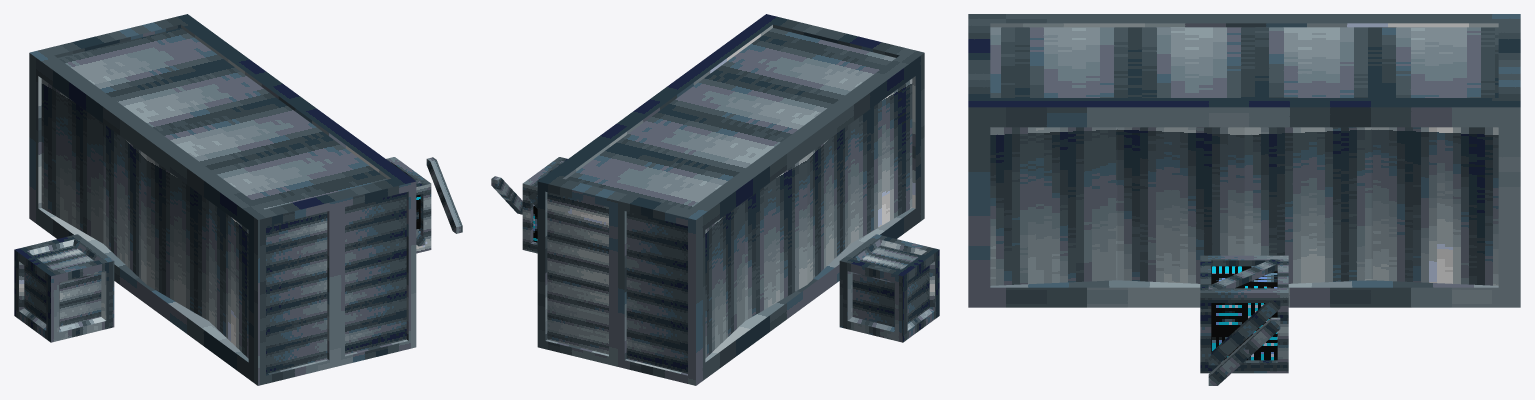
File: Crates.fbx
3 views of the same model, side by side, from view 1: azimuth 30°, elevation 25°; view 2: azimuth 150°, elevation 25°; view 3: azimuth 270°, elevation 25° (orthographic). The views are drawn at different scales.
Visible parts, largest first — view 1: ShippingCrate, MetalBox, WoodCrate, WoodCrateSupport; view 2: ShippingCrate, MetalBox, WoodCrate, WoodCrateSupport; view 3: ShippingCrate, WoodCrate, WoodCrateSupport.
Boxes of the visible parts, x1,y1,x2,y2 form: ShippingCrate: [29, 14, 416, 385]; MetalBox: [14, 234, 114, 342]; WoodCrate: [386, 157, 431, 253]; WoodCrateSupport: [426, 157, 462, 233]; ShippingCrate: [537, 14, 924, 385]; MetalBox: [839, 234, 939, 342]; WoodCrate: [522, 157, 567, 253]; WoodCrateSupport: [491, 176, 522, 214]; ShippingCrate: [968, 14, 1520, 307]; WoodCrate: [1200, 255, 1288, 373]; WoodCrateSupport: [1208, 317, 1280, 385].
Size of the model in its own units: 1310 by 1250 by 500.
Materials: 2 (2 with a texture image).
